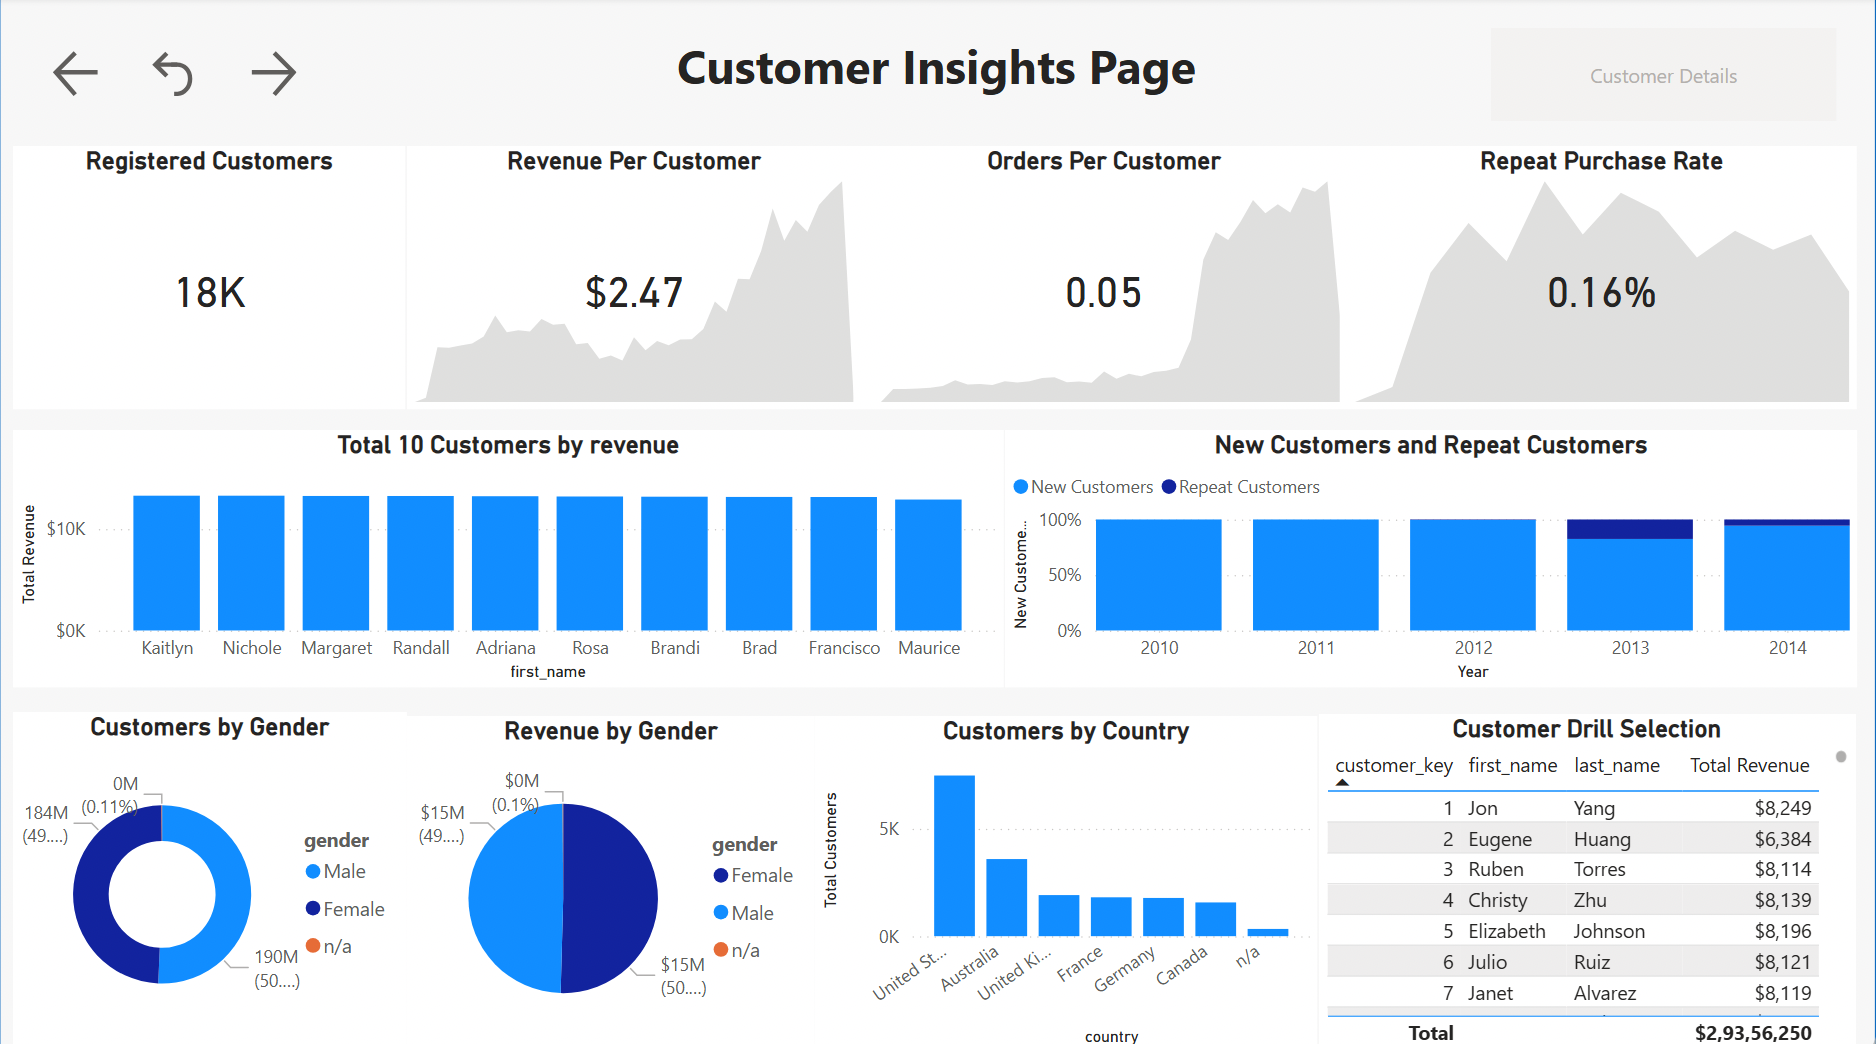

The dashboard page shown, as its layout file describes it:
{"tool":"powerbi","page":{"name":"Customer Insights ","canvas":[1280,720],"ordinal":1},"visuals":[{"type":"shape","title":"Background ","box":[0,0,1280,720.9],"z":0},{"type":"actionButton","title":"Home Page","box":[98.4,32.8,50.2,40.5],"z":0,"group":"g1"},{"type":"actionButton","title":"Next Page","box":[166,32.8,57.9,40.5],"z":1000,"group":"g1"},{"type":"kpi","title":"Registered Customers","fields":{"Indicator":["_measures.Total Registered Customrs"],"TrendLine":["date_dim.Year-Month"]},"box":[10,101.8,267.6,179.7],"z":1000},{"type":"actionButton","title":"Previous Page","box":[32.8,32.8,65.6,40.5],"z":2000,"group":"g1"},{"type":"kpi","title":"Revenue Per Customer","fields":{"Indicator":["_measures.Revenue Per Customer"],"TrendLine":["date_dim.Year-Month"]},"box":[277.6,101.8,309.5,179.7],"z":2000},{"type":"kpi","title":"Orders Per Customer","fields":{"Indicator":["_measures.Orders Per Customer"],"TrendLine":["date_dim.Year-Month"]},"box":[587.1,101.8,331.5,179.7],"z":3000},{"type":"donutChart","title":"Customers by Gender","fields":{"Category":["gold dim_customers.gender"],"Y":["Sum(gold dim_customers.customer_id)"]},"box":[9.7,488.4,268.4,229.7],"z":5000},{"type":"pieChart","title":"Revenue by Gender","fields":{"Y":["_measures.total_revenue"],"Category":["gold dim_customers.gender"]},"box":[278,490.4,278,229.7],"z":6000},{"type":"columnChart","title":"Customers by Country","fields":{"Y":["_measures.total_customers"],"Category":["gold dim_customers.country"]},"box":[556.7,490.4,342.7,229.1],"z":7000},{"type":"columnChart","title":"Total 10 Customers by revenue","fields":{"Category":["gold dim_customers.first_name"],"Y":["_measures.Total Revenue"]},"box":[9.7,295.4,675.7,175.7],"z":8000},{"type":"hundredPercentStackedColumnChart","title":"New Customers and Repeat Customers ","fields":{"Y":["_measures.New Customers","_measures.Repeat Customers"],"Category":["date_dim.Year"]},"box":[685.4,295.4,581.1,175.7],"z":9000},{"type":"kpi","title":"Repeat Purchase Rate ","fields":{"Indicator":["_measures.Repeat Purchase Rate"],"TrendLine":["date_dim.Year-Month"]},"box":[918.6,101.8,347.5,179.7],"z":11000},{"type":"textbox","box":[77.6,20.8,1122.8,62.5],"z":12000},{"type":"tableEx","title":"Customer Drill Selection","fields":{"Values":["gold dim_customers.customer_key","gold dim_customers.first_name","gold dim_customers.last_name","_measures.total_revenue"]},"box":[900.6,489.2,365.4,231.6],"z":13000},{"type":"actionButton","title":"Customer Details ","box":[1017.4,21.2,235.5,63.7],"z":14000},{"type":"group","id":"g1","title":"Page Navigators","box":[32.8,32.8,191.1,40.5],"z":15001}]}

Visuals, with their boxes in screenshot pixels (x1, y1, x2, y2), scaled from the page's 1280x720 canvas onto the 1876x1044 screenshot:
"Background " shape: BBox(0, 0, 1875, 1043)
"Home Page" actionButton: BBox(144, 48, 218, 106)
"Next Page" actionButton: BBox(243, 48, 328, 106)
"Registered Customers" kpi: BBox(15, 148, 407, 408)
"Previous Page" actionButton: BBox(48, 48, 144, 106)
"Revenue Per Customer" kpi: BBox(407, 148, 860, 408)
"Orders Per Customer" kpi: BBox(860, 148, 1346, 408)
"Customers by Gender" donutChart: BBox(14, 708, 408, 1041)
"Revenue by Gender" pieChart: BBox(407, 711, 815, 1043)
"Customers by Country" columnChart: BBox(816, 711, 1318, 1043)
"Total 10 Customers by revenue" columnChart: BBox(14, 428, 1005, 683)
"New Customers and Repeat Customers " hundredPercentStackedColumnChart: BBox(1005, 428, 1856, 683)
"Repeat Purchase Rate " kpi: BBox(1346, 148, 1856, 408)
textbox: BBox(114, 30, 1759, 121)
"Customer Drill Selection" tableEx: BBox(1320, 709, 1855, 1043)
"Customer Details " actionButton: BBox(1491, 31, 1836, 123)
"Page Navigators" group: BBox(48, 48, 328, 106)
